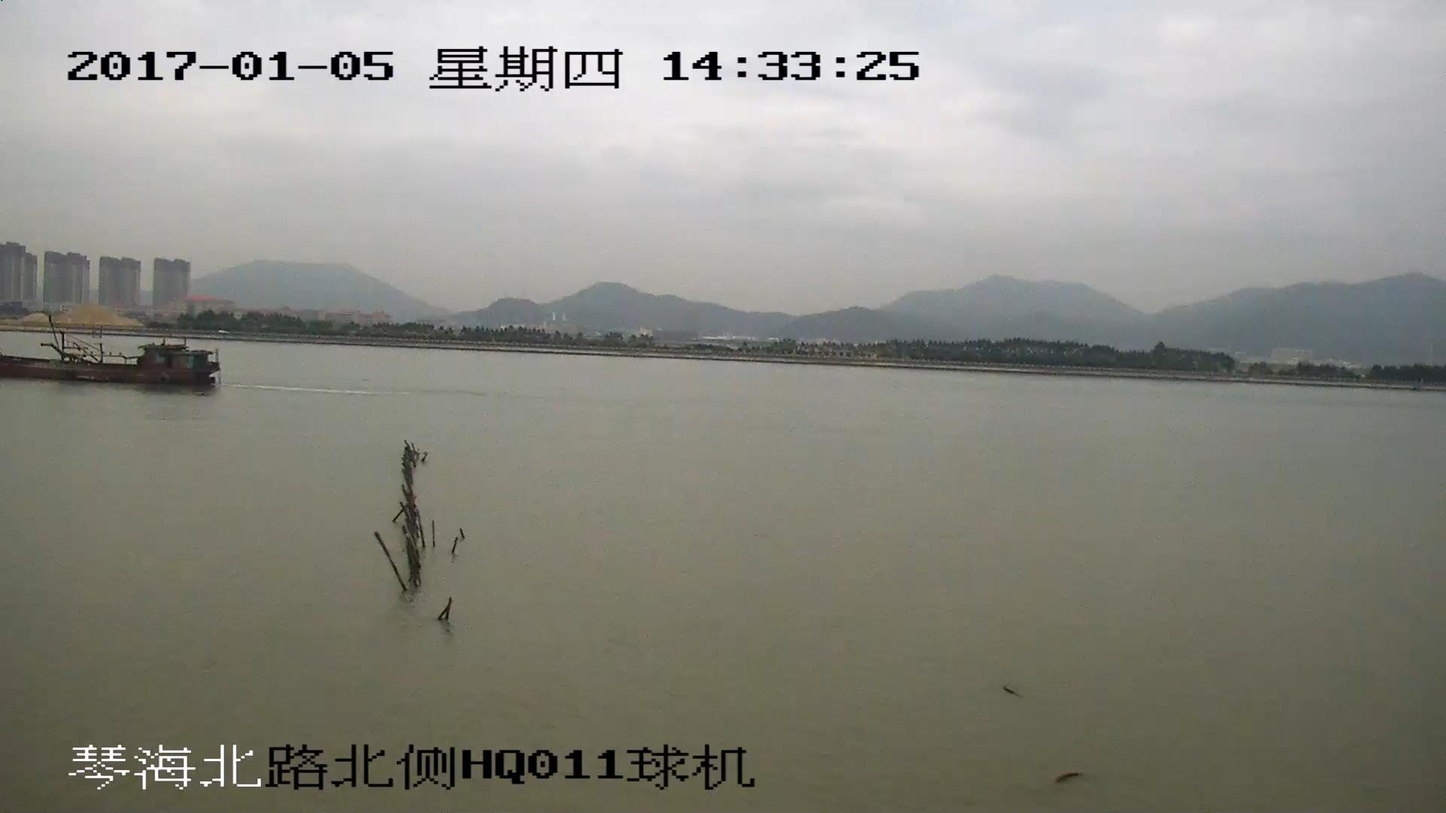fishing boat: (0, 327, 226, 387)
